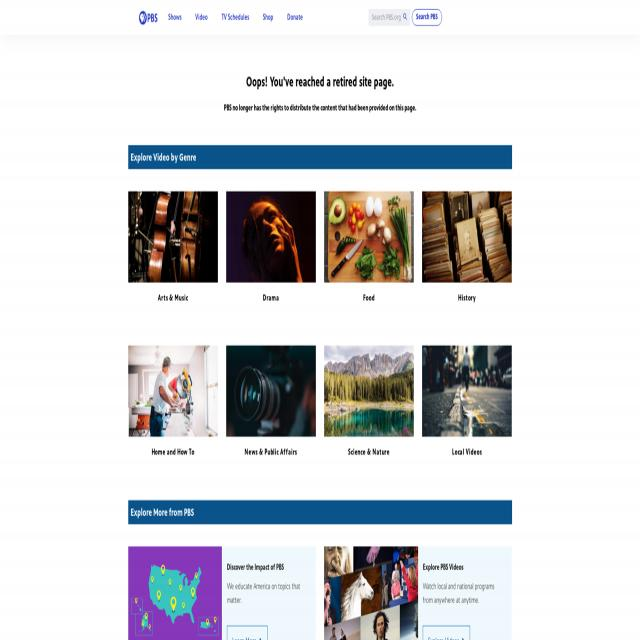button: (128, 191, 218, 282), (226, 191, 316, 282), (324, 191, 414, 282), (422, 191, 512, 282), (128, 346, 218, 436), (226, 346, 316, 436), (324, 346, 414, 436), (422, 346, 512, 436), (412, 8, 442, 26), (287, 13, 303, 22)
field: (368, 8, 410, 26)
